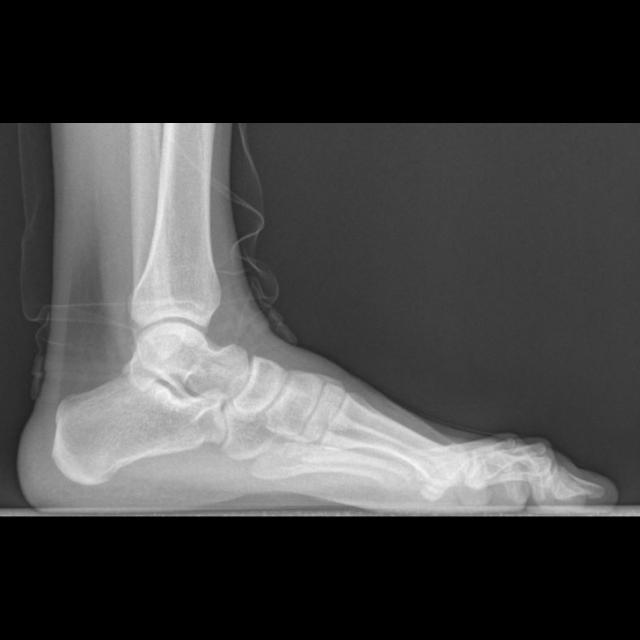a: (52, 331, 244, 483)
b: (232, 356, 288, 421)
c: (320, 393, 469, 501)
